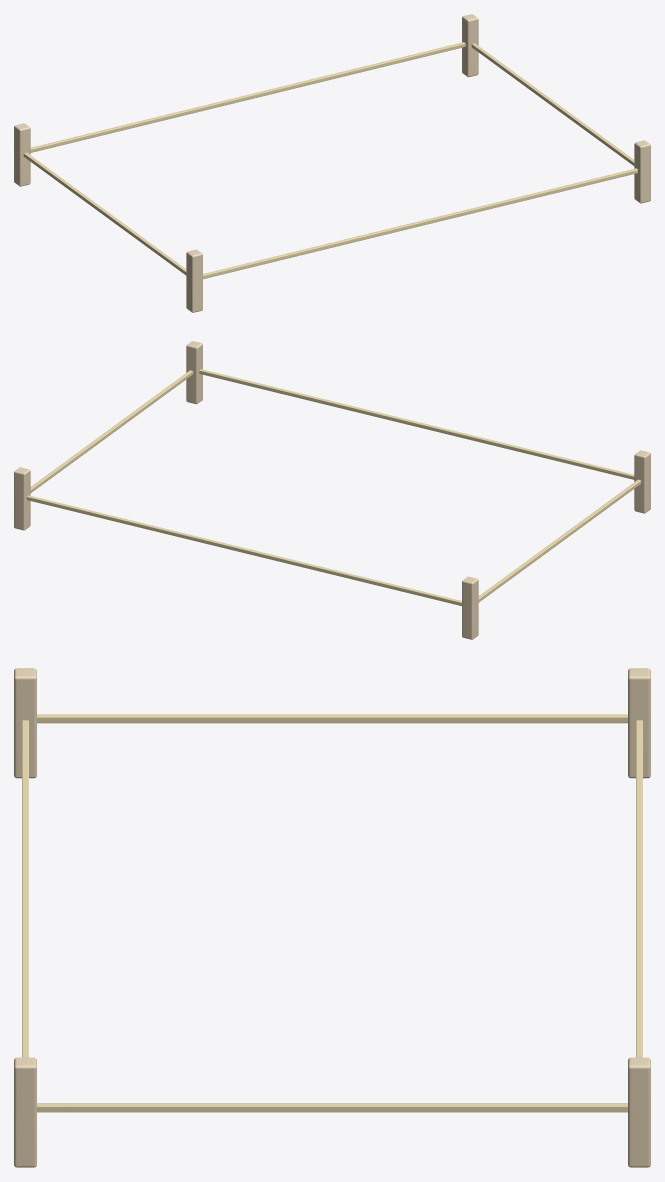
The model's file is cattle-shelter-planned.glb.
3 renders of one model, top to bottom at view 1: azimuth 30°, elevation 25°; view 2: azimuth 150°, elevation 25°; view 3: azimuth 270°, elevation 25°, orthographic. The views are drawn at different scales.
Visible parts, largest first — view 1: Setting-out cord.017, Setting-out cord.016, Setting-out cord.018, Setting-out cord.019, Survey peg.016, Survey peg.018, Survey peg.017, Survey peg.019; view 2: Setting-out cord.016, Setting-out cord.017, Setting-out cord.018, Setting-out cord.019, Survey peg.017, Survey peg.019, Survey peg.016, Survey peg.018; view 3: Setting-out cord.018, Setting-out cord.019, Survey peg.018, Survey peg.019, Setting-out cord.016, Setting-out cord.017, Survey peg.016, Survey peg.017.
Boxes of the visible parts, x1,y1,x2,y2 form: Setting-out cord.017: (30,42,465,152); Setting-out cord.016: (203,168,637,278); Setting-out cord.018: (23,152,186,275); Setting-out cord.019: (471,43,634,165); Survey peg.016: (186,249,202,312); Survey peg.018: (634,140,650,203); Survey peg.017: (14,123,30,186); Survey peg.019: (462,14,478,77); Setting-out cord.016: (199,369,634,479); Setting-out cord.017: (27,495,461,605); Setting-out cord.018: (478,479,641,602); Setting-out cord.019: (30,370,193,492); Survey peg.017: (462,576,478,639); Survey peg.019: (14,467,30,530); Survey peg.016: (634,450,650,513); Survey peg.018: (186,341,202,404); Setting-out cord.018: (37,714,627,723); Setting-out cord.019: (37,1103,627,1112); Survey peg.018: (14,1057,36,1167); Survey peg.019: (628,1057,650,1167); Setting-out cord.016: (22,720,28,1057); Setting-out cord.017: (636,720,642,1057); Survey peg.016: (14,668,36,778); Survey peg.017: (628,668,650,778).
Size of the model in its own units: 3.69 by 0.44 by 2.49.
